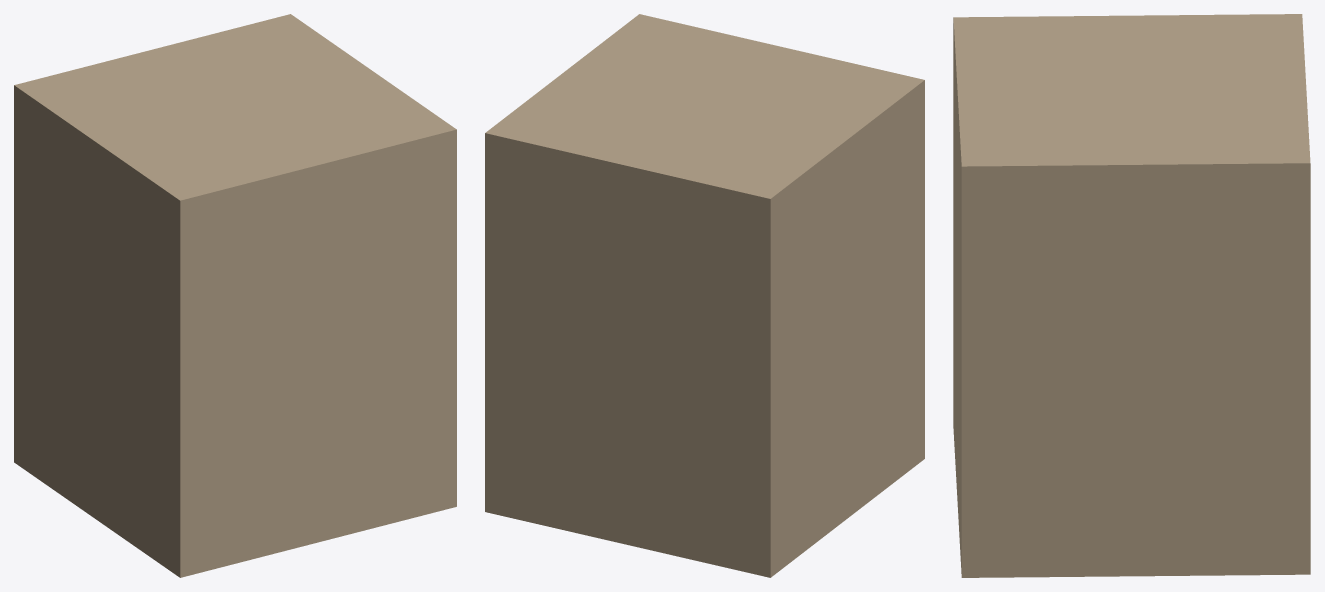
The model's file is bld_163484213.dae.
3 renders of one model, left to right at view 1: azimuth 30°, elevation 25°; view 2: azimuth 150°, elevation 25°; view 3: azimuth 270°, elevation 25°, orthographic. The views are drawn at different scales.
Parts seen in each view (by area): view 1: bld_163484213; view 2: bld_163484213; view 3: bld_163484213.
Part boxes in pixels (box(x1,y1,x2,y2)): bld_163484213: box(14, 14, 456, 577); bld_163484213: box(485, 14, 924, 577); bld_163484213: box(953, 14, 1310, 577).
Size of the model in its own units: 6.36 by 6.29 by 8.
